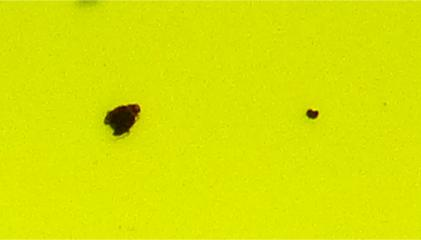Coleoptera: (100, 100, 143, 140)
